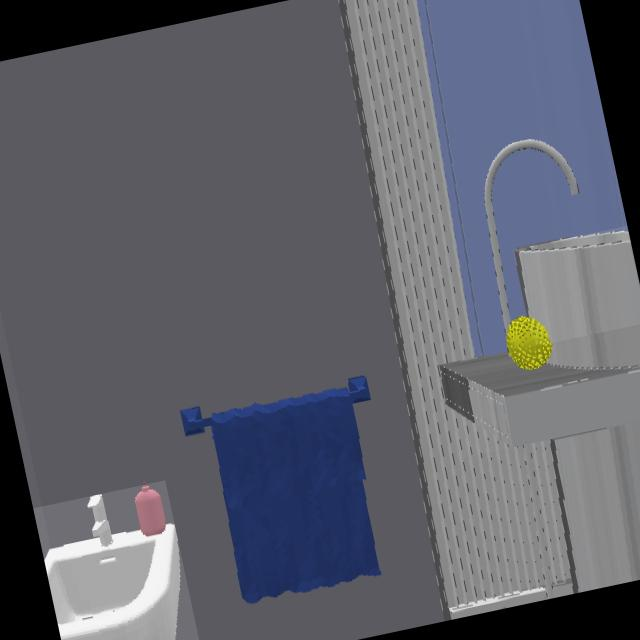shelf: (439, 352, 640, 446)
washbasin: (45, 495, 180, 640), (486, 139, 578, 326), (516, 231, 640, 368)
